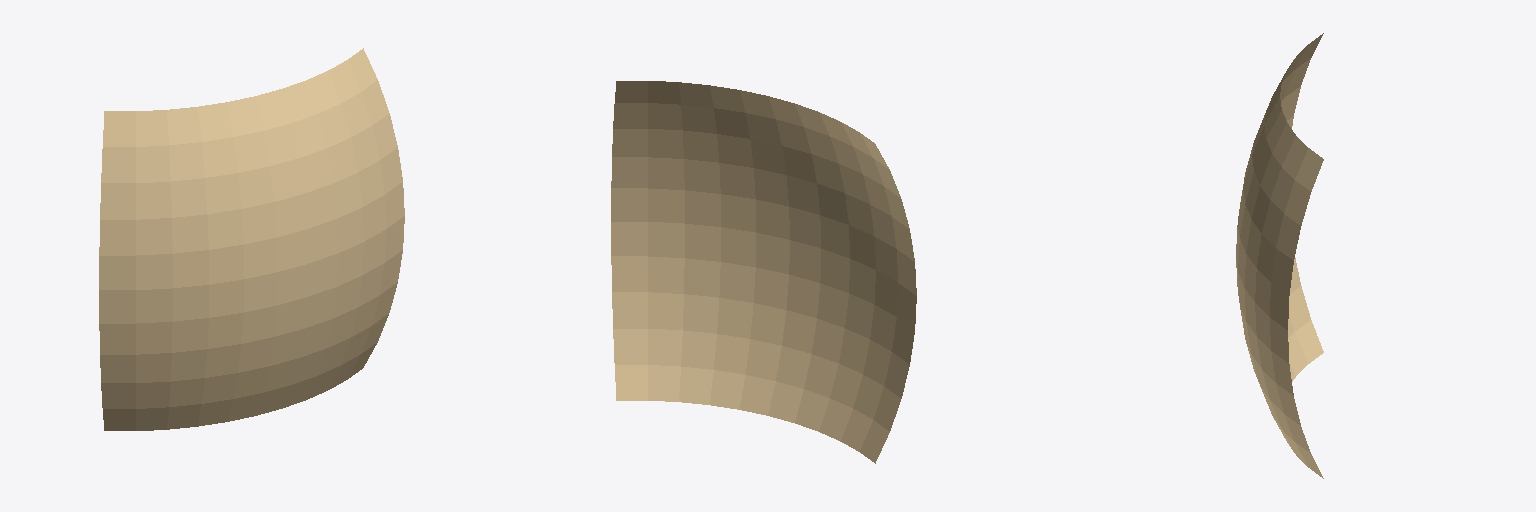
The model's file is just_sail.obj.
3 views of the same model, side by side, from view 1: azimuth 30°, elevation 25°; view 2: azimuth 150°, elevation 25°; view 3: azimuth 270°, elevation 25° (orthographic).
Parts seen in each view (by area): view 1: mergedBlocks; view 2: mergedBlocks; view 3: mergedBlocks.
Boxes of the visible parts, box(x1,y1,x2,y2) form: mergedBlocks: box(99, 48, 404, 430); mergedBlocks: box(611, 81, 916, 463); mergedBlocks: box(1236, 33, 1323, 478).
Size of the model in its own units: 1 by 1 by 0.25.